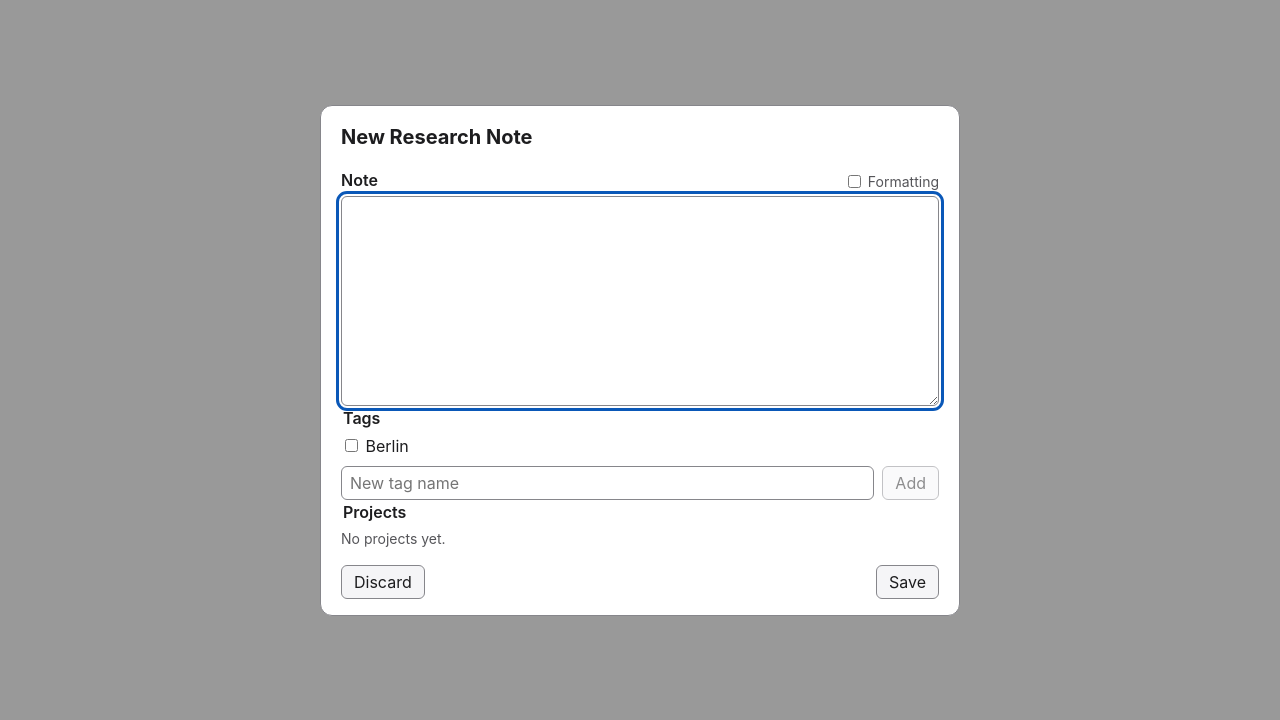
Test: the note editor › keeps focus on Add, pressed by keyboard, while the tag is made and after
Type "Primary source" into the field labelled "New tag name" at (608, 482), box [341,466,874,500]
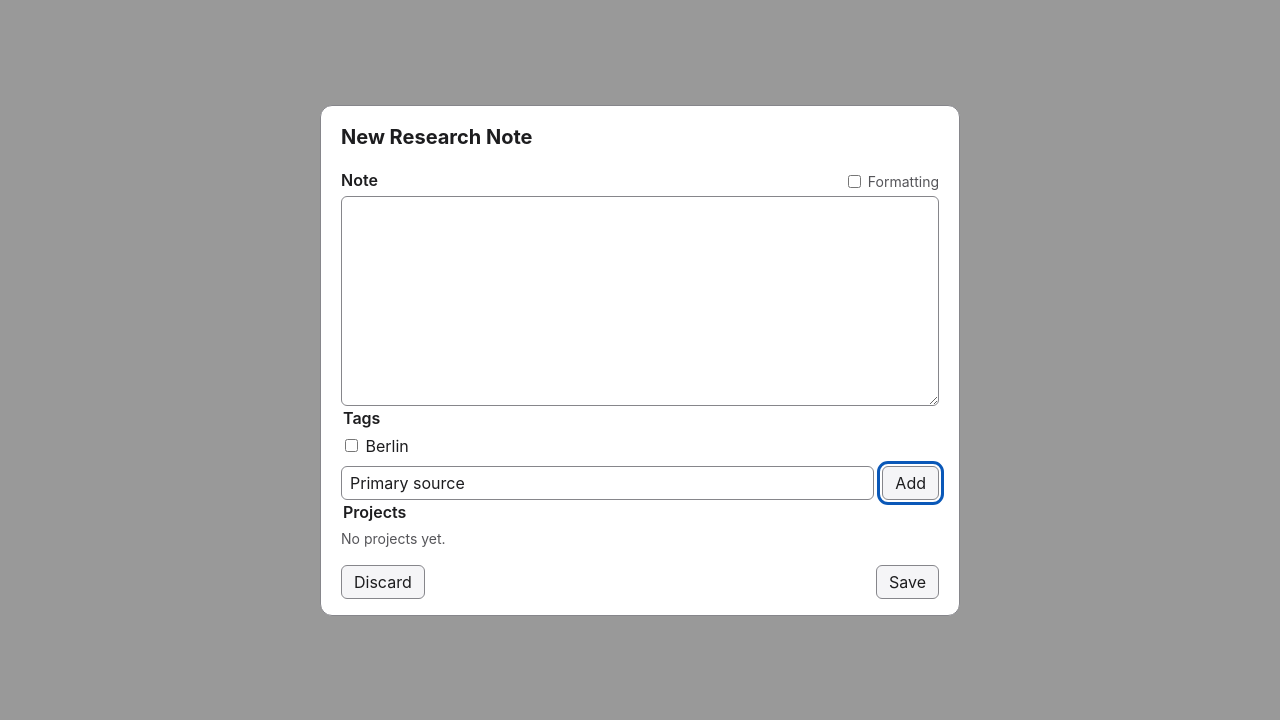
Press Enter
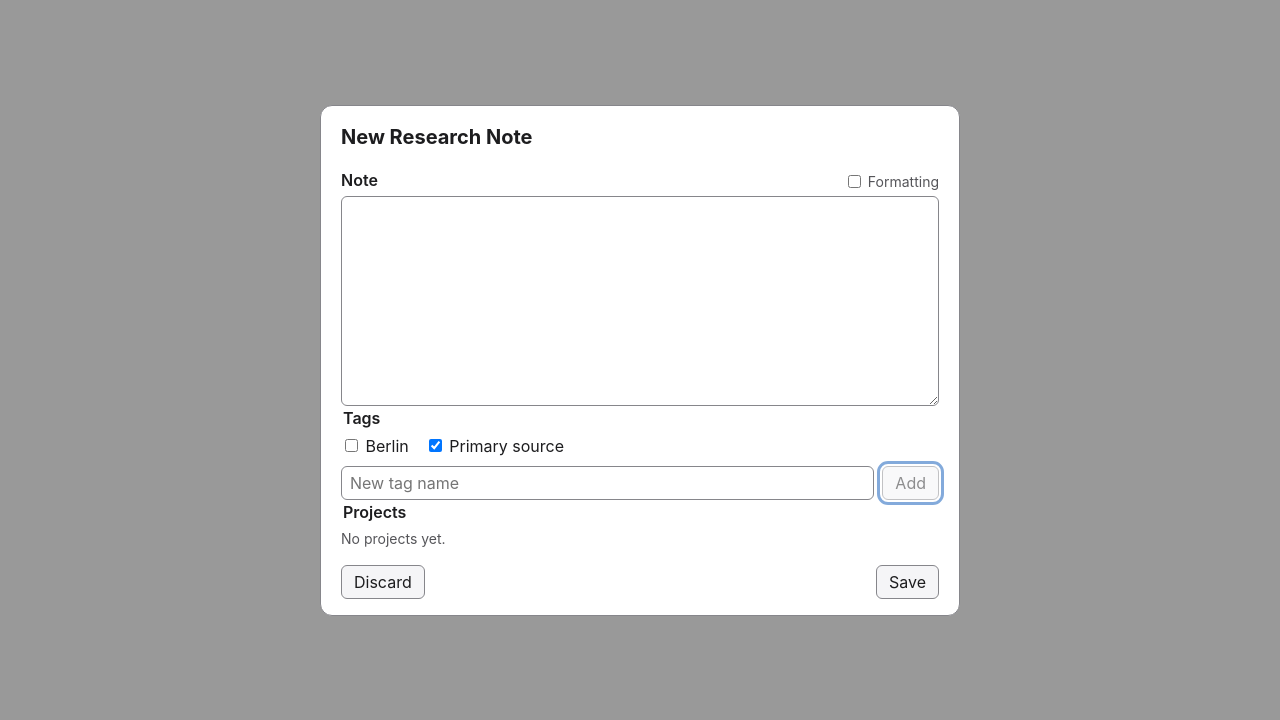
Expected: the button "Add" is enabled, [882,466,939,500]
Expected: the checkbox labelled "Primary source" is checked, [429,438,442,452]
